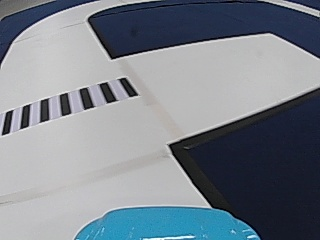CrossWalk: (5, 77, 134, 130)
